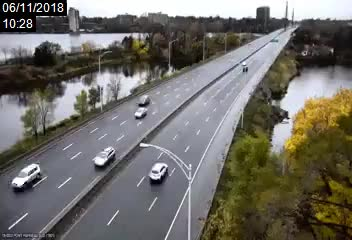personal_car: (10, 162, 42, 192), (91, 145, 117, 167), (148, 161, 169, 185), (134, 94, 152, 107), (134, 106, 149, 120), (240, 60, 250, 66)
